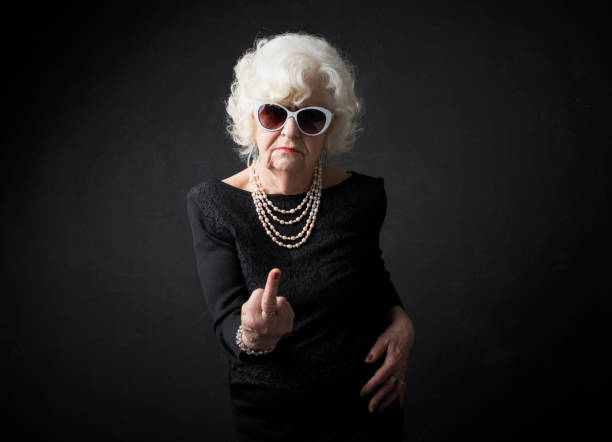insulting_gesture: (239, 265, 296, 357)
